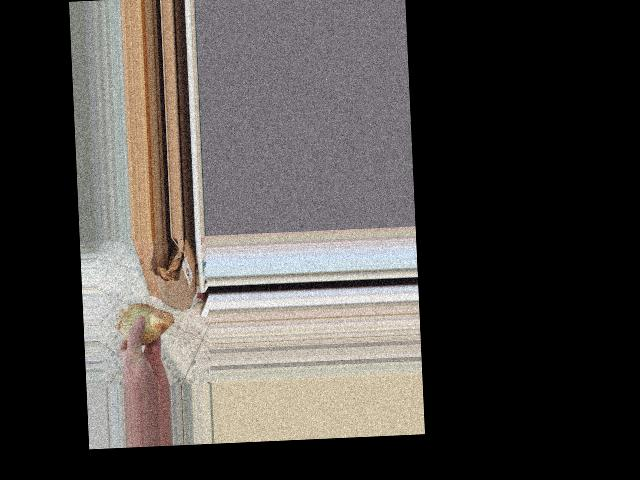onion: (115, 300, 175, 349)
